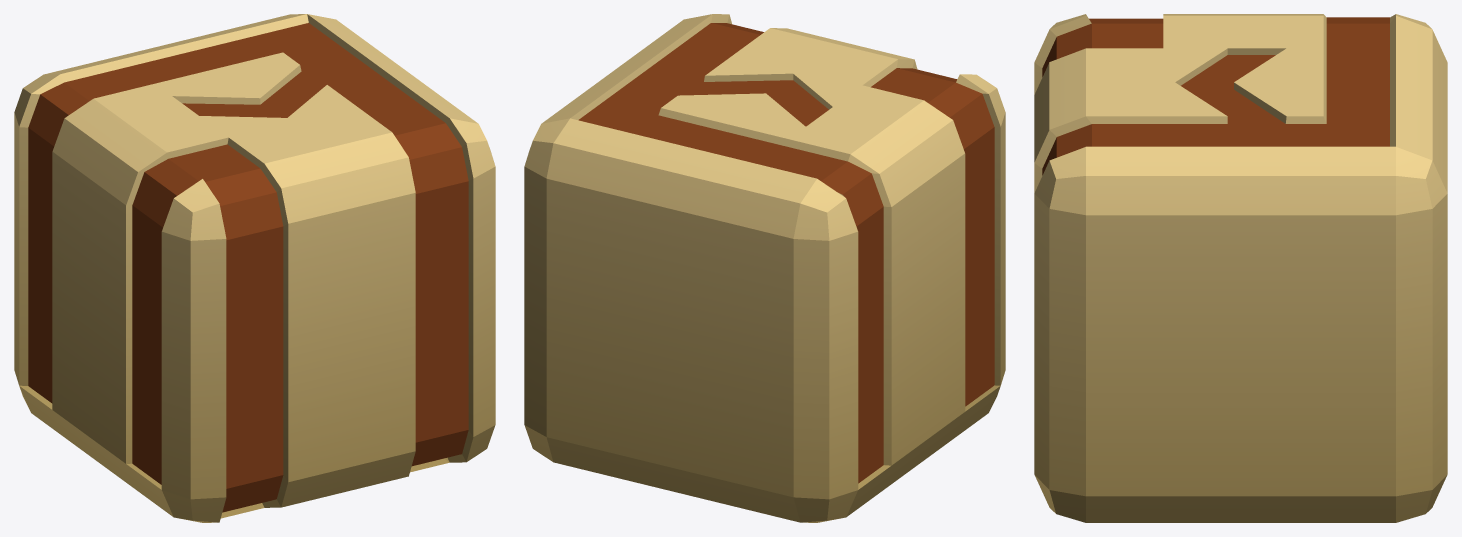
File: Tile_JalurBuntutBelokPutih_1.fbx
3 views of the same model, side by side, from view 1: azimuth 30°, elevation 25°; view 2: azimuth 150°, elevation 25°; view 3: azimuth 270°, elevation 25° (orthographic). The views are drawn at different scales.
Visible parts, largest first — view 1: Jalur Ular Belok Putih; view 2: Jalur Ular Belok Putih; view 3: Jalur Ular Belok Putih.
Part boxes in pixels (bbox=[...]): Jalur Ular Belok Putih: bbox=[14, 14, 495, 522]; Jalur Ular Belok Putih: bbox=[524, 14, 1005, 522]; Jalur Ular Belok Putih: bbox=[1034, 14, 1447, 522].
Size of the model in its own units: 1 by 1 by 1.
Materials: 1 (1 with a texture image).
